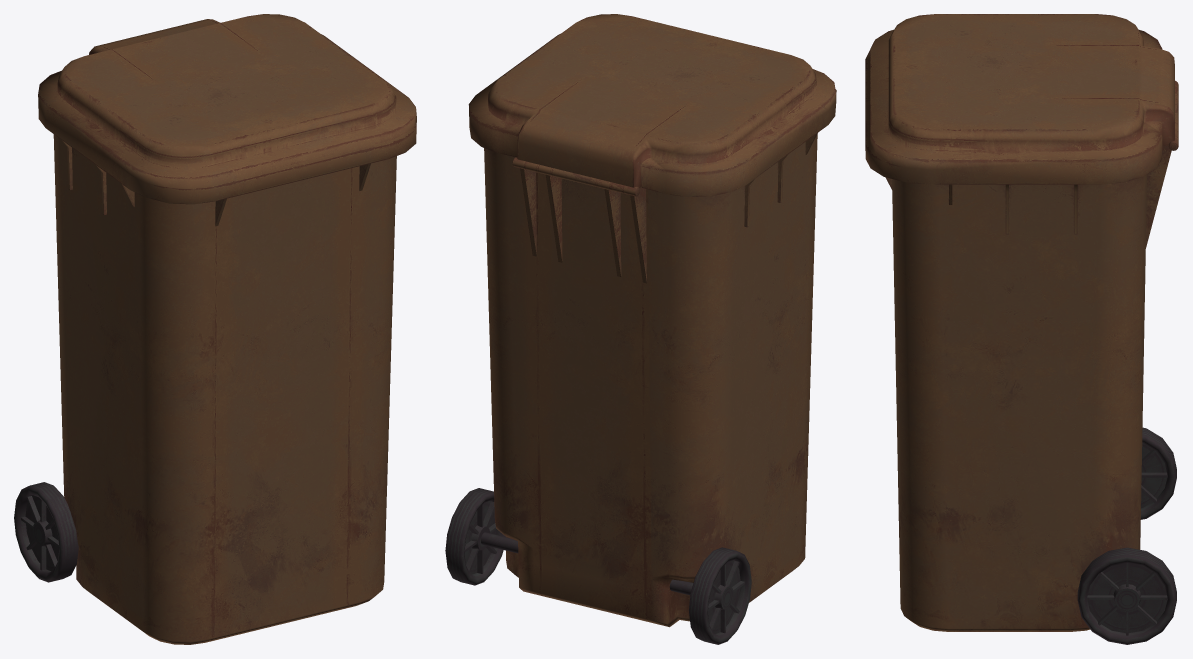
Rendered from bin.glb.
3 views of the same model, side by side, from view 1: azimuth 30°, elevation 25°; view 2: azimuth 150°, elevation 25°; view 3: azimuth 270°, elevation 25° (orthographic). The views are drawn at different scales.
Parts seen in each view (by area): view 1: polySurface52; view 2: polySurface52; view 3: polySurface52.
Part boxes in pixels (x1,y1,x2,y2): polySurface52: (14,14,416,644); polySurface52: (445,14,836,644); polySurface52: (865,14,1178,644).
Bounding box in the file's own units: 77 × 134 × 74.63.
1 material, 1 textured.
